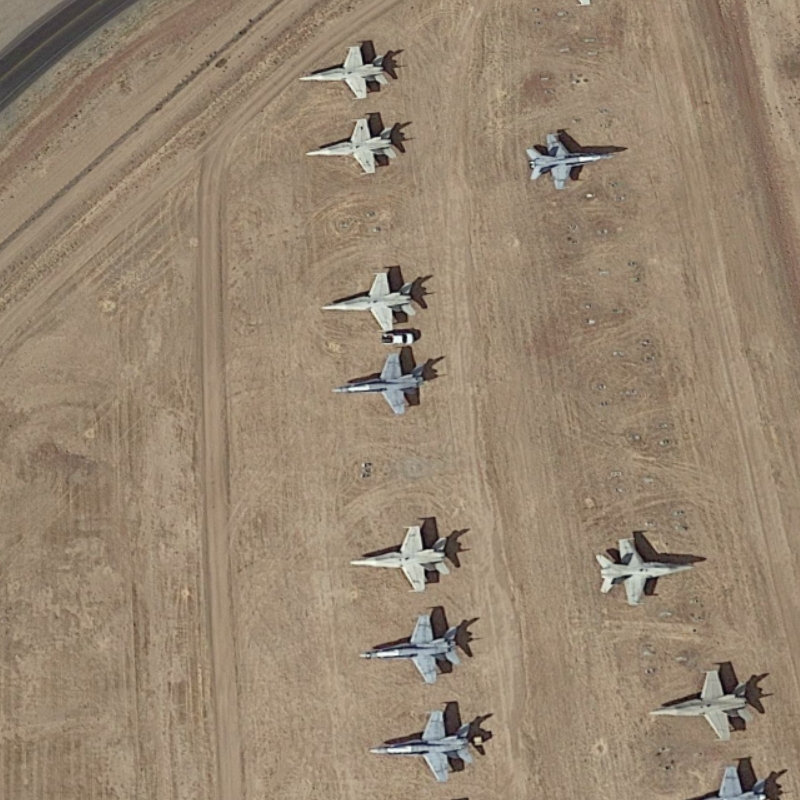A16: (367, 700, 494, 789), (646, 658, 770, 746), (355, 607, 481, 689), (587, 525, 704, 605), (346, 518, 469, 594), (319, 266, 440, 339), (309, 106, 409, 177), (334, 347, 437, 415), (524, 125, 624, 194), (293, 38, 399, 100)
